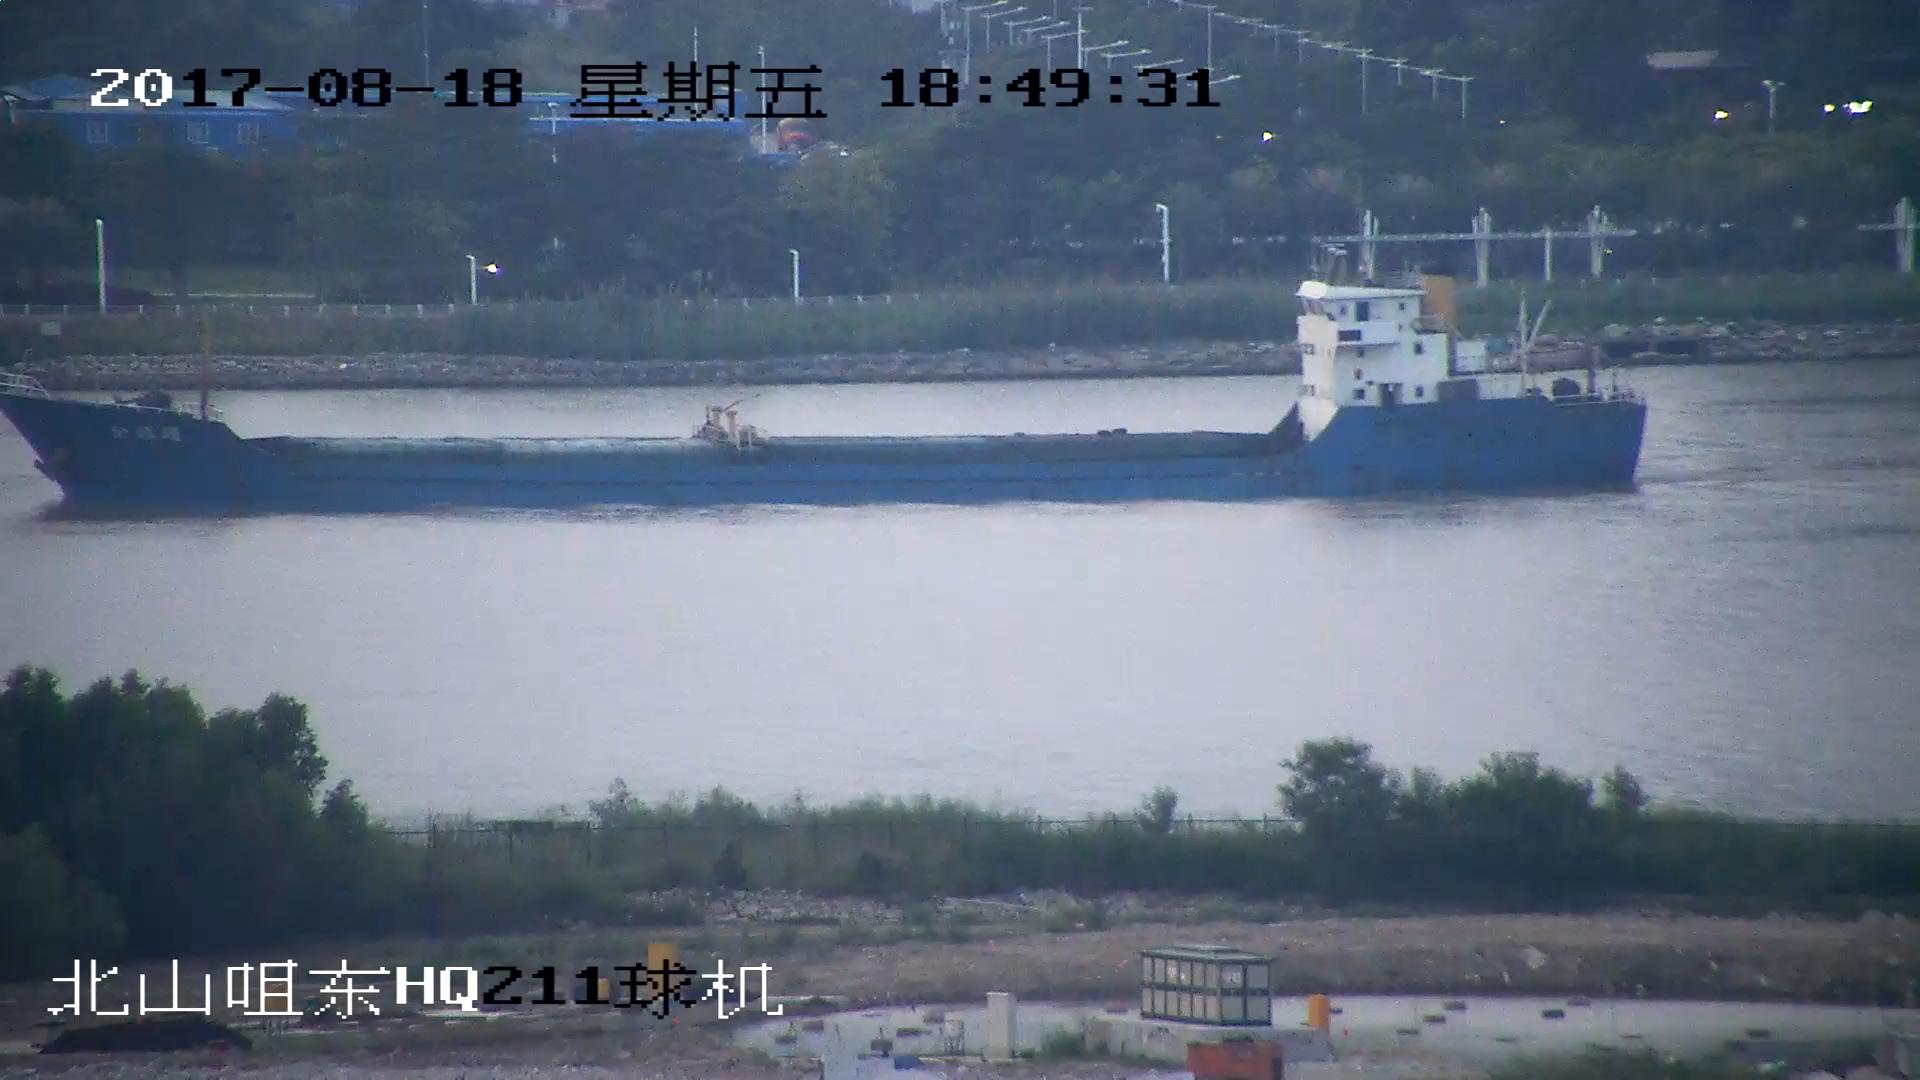general cargo ship: (1, 237, 1642, 521)
